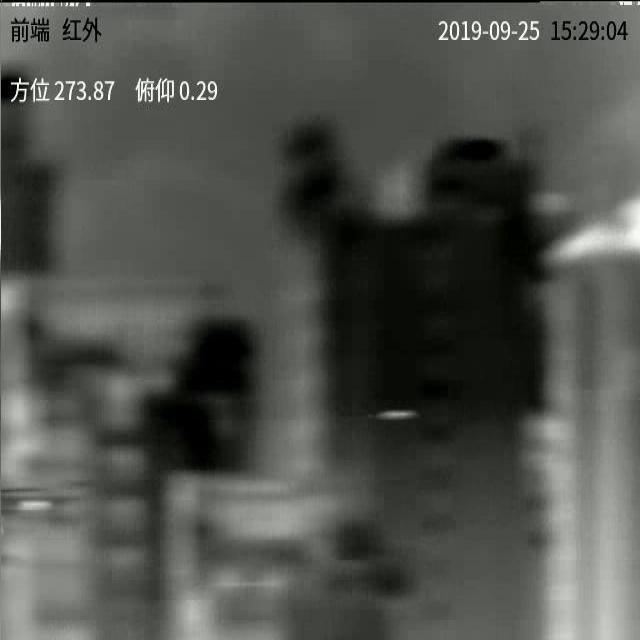drone: (368, 411, 417, 419)
